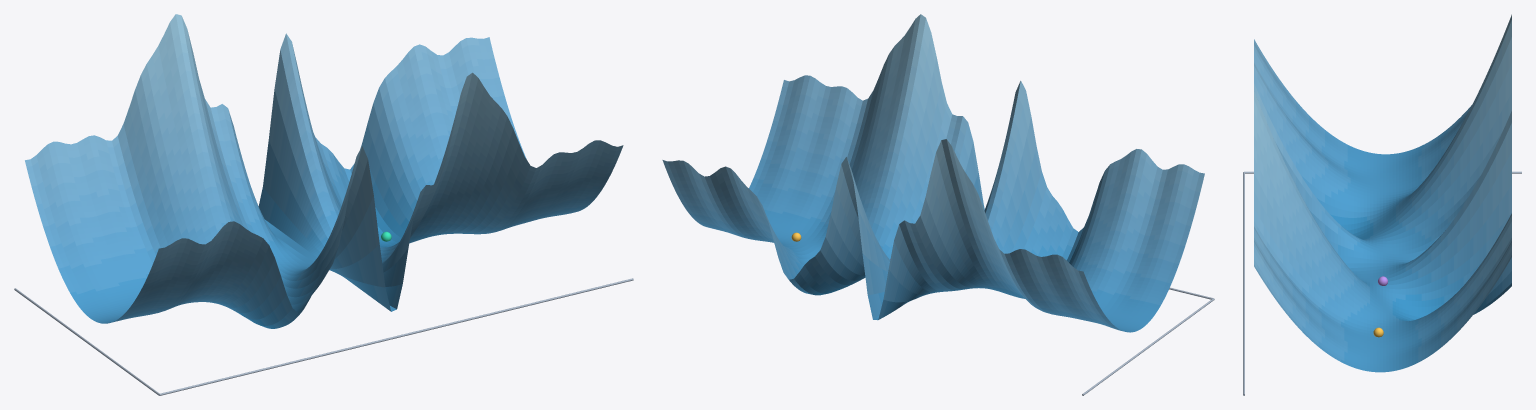
File: loss.glb
The picture shows the model from 3 angles, left to right: view 1: azimuth 30°, elevation 25°; view 2: azimuth 150°, elevation 25°; view 3: azimuth 270°, elevation 25°; orthographic projection. The views are drawn at different scales.
Parts seen in each view (by area): view 1: Computed loss surface, Frequency axis; view 2: Computed loss surface; view 3: Computed loss surface, Frequency axis.
Boxes of the visible parts, left/top/right/bottom form: Computed loss surface: left=25, top=14, right=623, bottom=328; Frequency axis: left=159, top=278, right=633, bottom=395; Computed loss surface: left=662, top=14, right=1204, bottom=332; Computed loss surface: left=1254, top=14, right=1511, bottom=372; Frequency axis: left=1243, top=172, right=1244, bottom=395.
Bounding box in the file's own units: 10.62 × 5.18 × 5.62.
